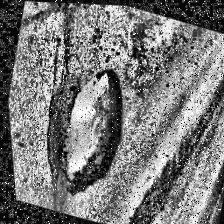pothole: (41, 56, 141, 208)
